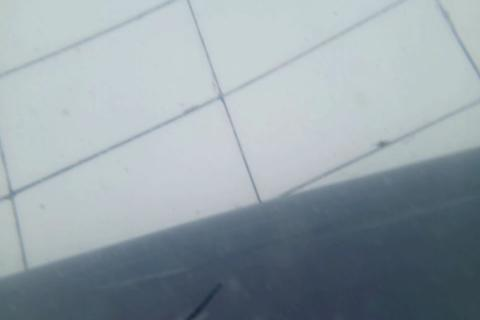keretakan: (186, 279, 223, 320)
